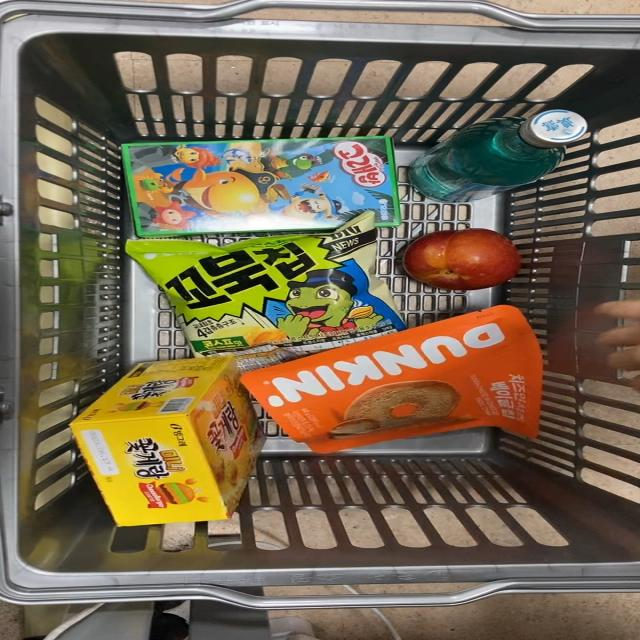cheesebagel: (262, 329, 575, 469)
ggobukchip: (146, 239, 396, 346)
goraebob: (120, 126, 402, 229)
jinro: (413, 109, 589, 209)
minicrab: (52, 351, 274, 534)
plum: (380, 223, 544, 296)
